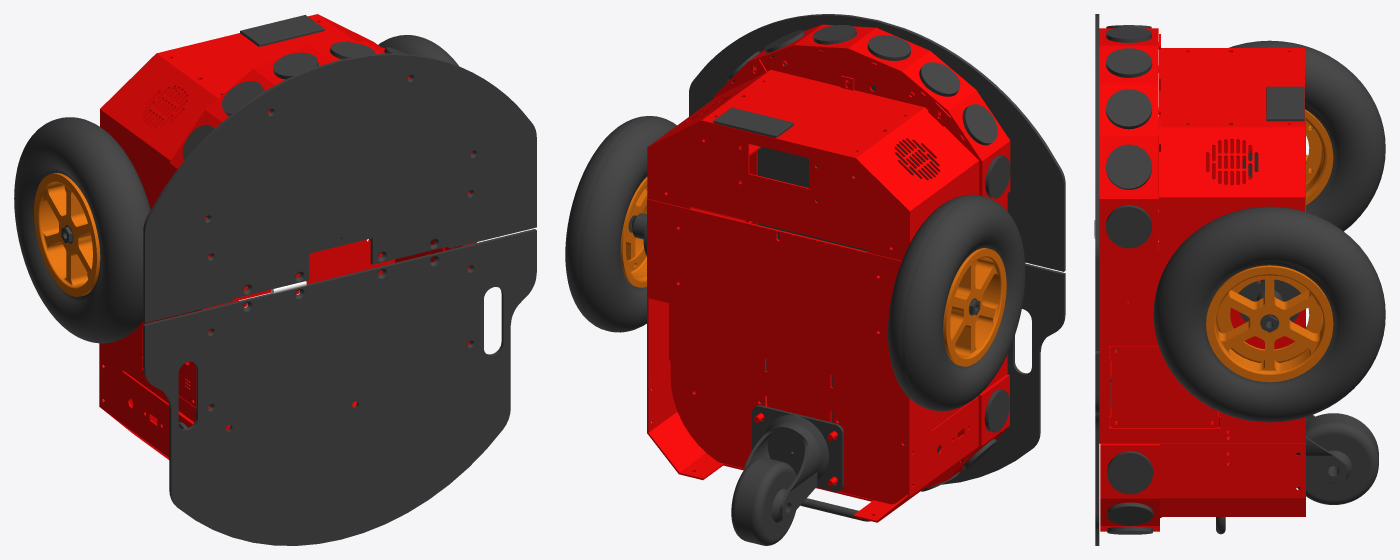
Rendered from P3DX Simplified.fbx.
The picture shows the model from 3 angles, left to right: view 1: azimuth 30°, elevation 25°; view 2: azimuth 150°, elevation 25°; view 3: azimuth 270°, elevation 25°; orthographic projection. The views are drawn at different scales.
Parts seen in each view (by area): view 1: Body6, Body2, Body41, Body9, Body38, Body1, Body20, Body11, Body128, Body35, Body18, Body15 (+1 smaller); view 2: Body1, Body9, Body41, Body2, Body35, Body20, Body6, Body10, Body38, Body11, Body45, Body44 (+11 smaller); view 3: Body35, Body9, Body1, Body20, Body41, Body32, Body11, Body47, Body45, Body21, Body33, Body39 (+13 smaller).
Part boxes in pixels (box(x1,y1,x2,y2)): Body6: box(143, 229, 536, 545); Body2: box(143, 53, 536, 322); Body41: box(14, 117, 150, 343); Body9: box(100, 14, 379, 202); Body38: box(34, 173, 100, 296); Body1: box(99, 191, 476, 430); Body20: box(99, 353, 356, 459); Body11: box(169, 41, 473, 219); Body128: box(240, 15, 324, 46); Body35: box(378, 35, 476, 242); Body18: box(273, 52, 318, 79); Body15: box(222, 81, 264, 115); Body1: box(647, 144, 1007, 504); Body9: box(647, 59, 979, 260); Body41: box(888, 194, 1025, 410); Body2: box(689, 14, 1065, 271); Body35: box(565, 116, 676, 332); Body20: box(647, 366, 978, 522); Body6: box(757, 223, 1065, 484); Body10: box(716, 47, 980, 195); Body38: box(943, 248, 1006, 366); Body11: box(714, 24, 1010, 201); Body45: box(731, 457, 796, 545); Body44: box(744, 422, 821, 521); Body35: box(1153, 206, 1385, 422); Body9: box(1159, 34, 1304, 251); Body1: box(1099, 116, 1305, 443); Body20: box(1160, 411, 1305, 516); Body41: box(1229, 40, 1385, 231); Body32: box(1206, 265, 1333, 382); Body11: box(1099, 28, 1158, 252); Body47: box(1111, 345, 1218, 427); Body45: box(1297, 413, 1378, 504); Body21: box(1100, 344, 1159, 531); Body33: box(1216, 275, 1323, 362); Body39: box(1305, 109, 1333, 205).
Size of the model in its own units: 15 by 17.5 by 9.58.
